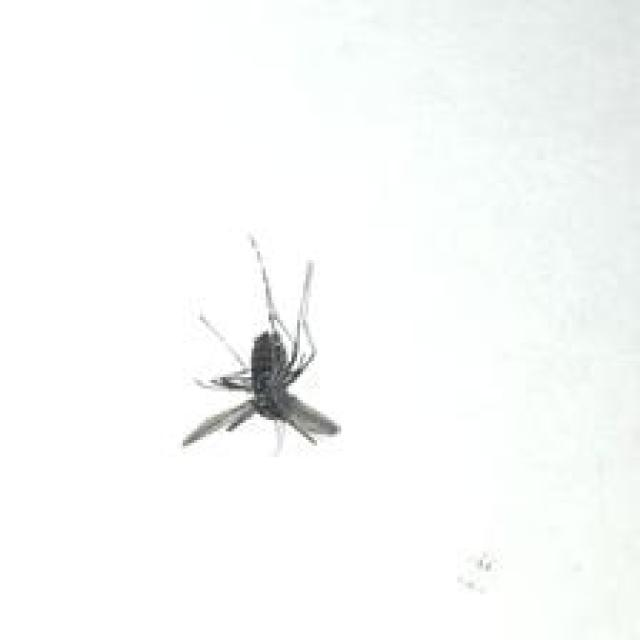Aedes albopictus: (180, 232, 340, 454)
